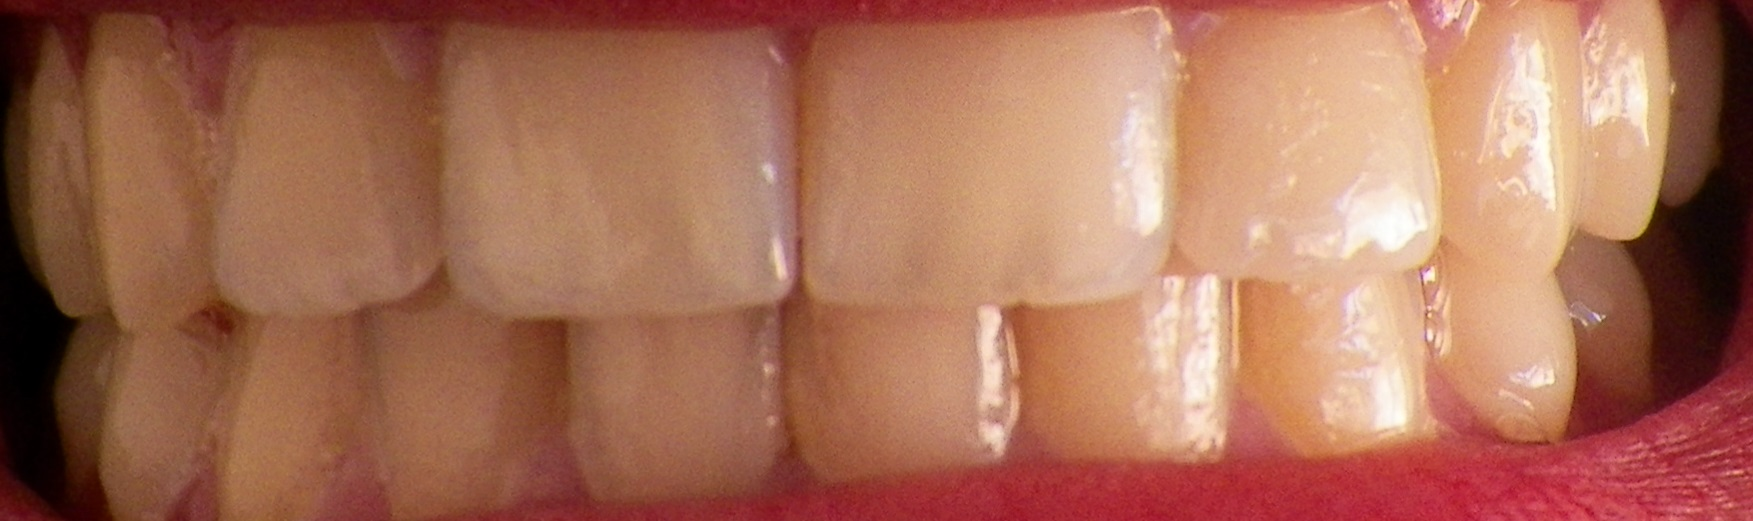boca: (20, 6, 1717, 501)
